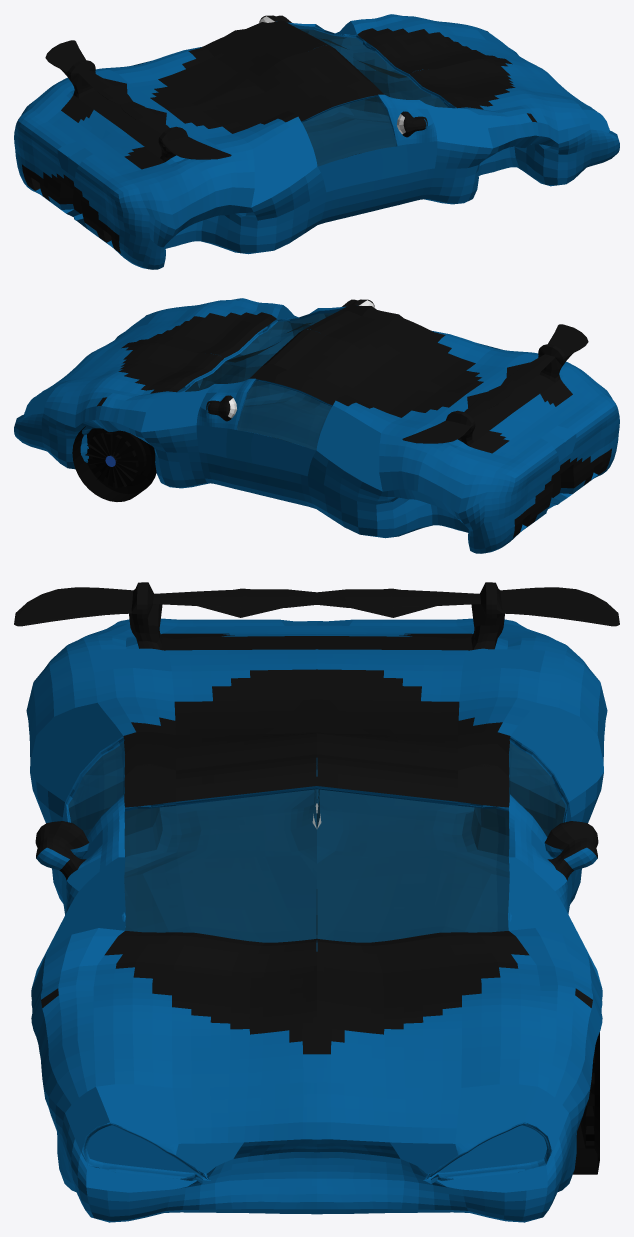
The model's file is poly_senna.glb.
The picture shows the model from 3 angles, top to bottom: view 1: azimuth 30°, elevation 25°; view 2: azimuth 150°, elevation 25°; view 3: azimuth 270°, elevation 25°; orthographic projection. The views are drawn at different scales.
Parts seen in each view (by area): view 1: Cube; view 2: Cube, Circle; view 3: Cube, Circle.
Part boxes in pixels (box(x1,y1,x2,y2)): Cube: box(14, 14, 619, 269); Cube: box(14, 298, 619, 553); Circle: box(72, 426, 156, 501); Cube: box(14, 582, 619, 1222); Circle: box(573, 1032, 599, 1174).
Bounding box in the file's own units: 4.58 × 1.31 × 2.54.
